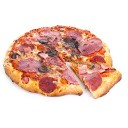pepperonipizza: (6, 25, 116, 95)
